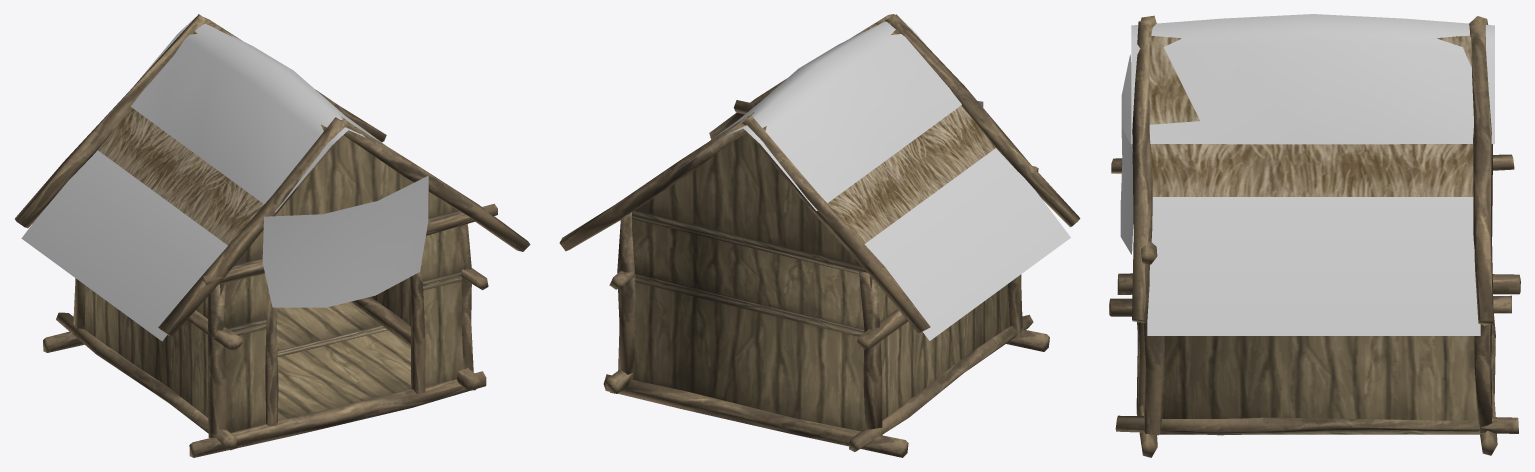
Rendered from beach hut.FBX.
3 renders of one model, left to right at view 1: azimuth 30°, elevation 25°; view 2: azimuth 150°, elevation 25°; view 3: azimuth 270°, elevation 25°, orthographic. The views are drawn at different scales.
Parts seen in each view (by area): view 1: beach hut; view 2: beach hut; view 3: beach hut.
Part boxes in pixels (x1=…): beach hut: x1=15, y1=14, x2=530, y2=457; beach hut: x1=559, y1=14, x2=1080, y2=457; beach hut: x1=1109, y1=14, x2=1520, y2=457.
Size of the model in its own units: 3.88 by 3.07 by 3.16.
